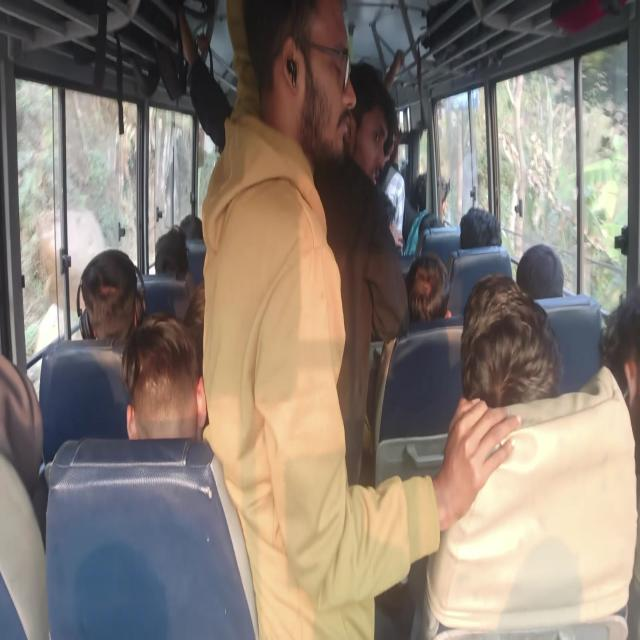person: (199, 1, 522, 638), (312, 49, 408, 487), (460, 273, 563, 409), (121, 311, 207, 441), (600, 284, 640, 468), (78, 248, 145, 348), (376, 121, 406, 254), (404, 252, 451, 324), (516, 242, 564, 300), (153, 226, 190, 282), (459, 206, 502, 249)
